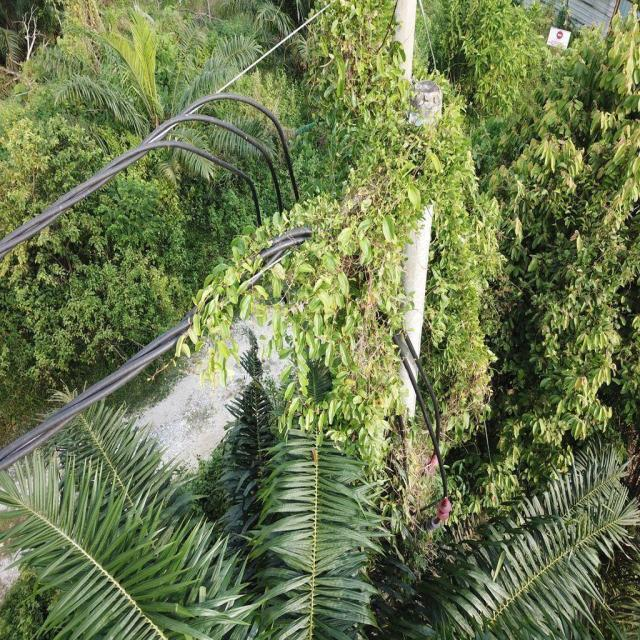critical vegetation: (140, 69, 494, 438)
